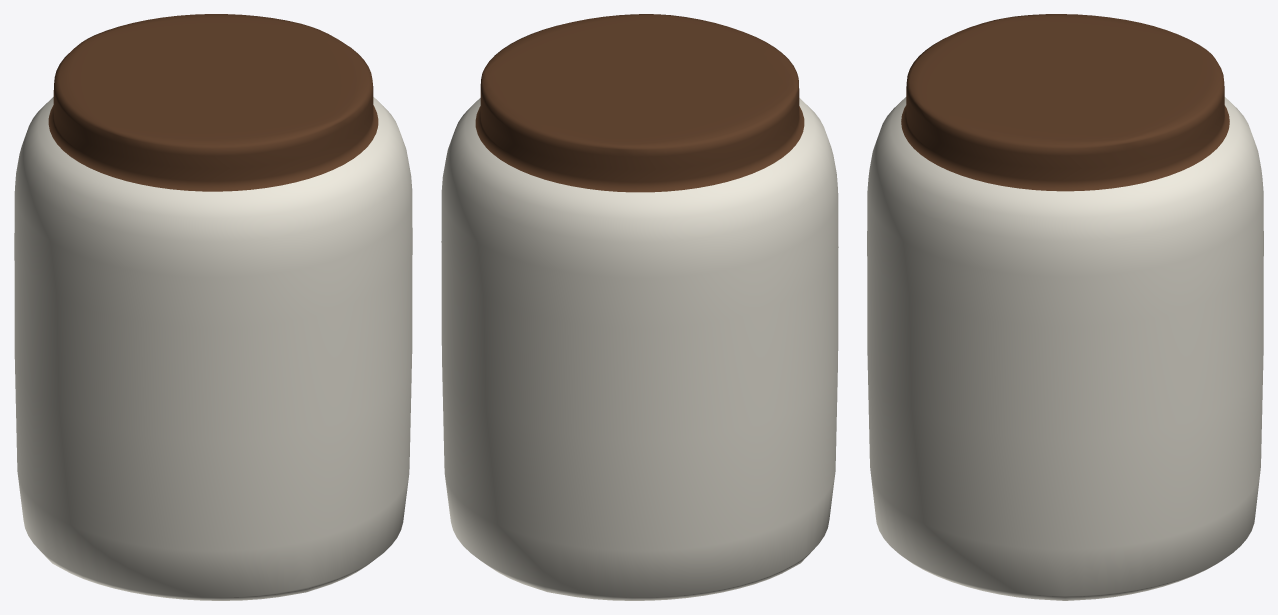
The model's file is jar.fbx.
3 renders of one model, left to right at view 1: azimuth 30°, elevation 25°; view 2: azimuth 150°, elevation 25°; view 3: azimuth 270°, elevation 25°, orthographic.
Visible parts, largest first — view 1: Circle; view 2: Circle; view 3: Circle.
Boxes of the visible parts, x1=… form: Circle: x1=14, y1=14, x2=412, y2=600; Circle: x1=441, y1=14, x2=838, y2=600; Circle: x1=867, y1=14, x2=1263, y2=600.
Size of the model in its own units: 249 by 307 by 249.
Materials: 3 (1 with a texture image).
